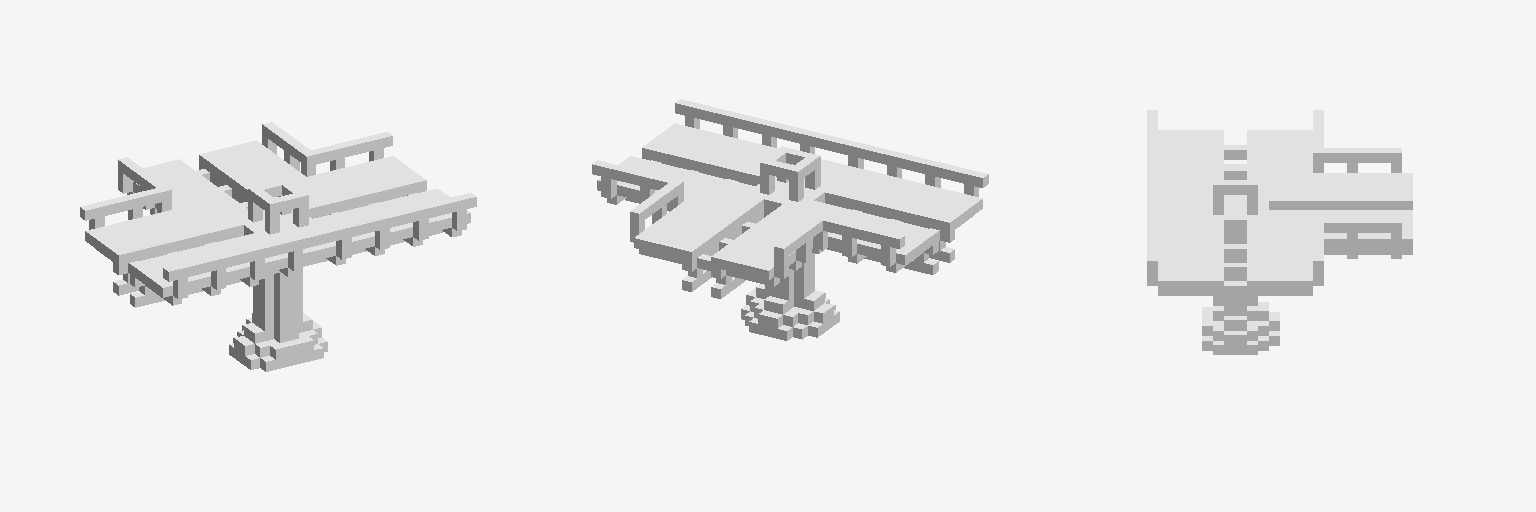
File: bridgeFork.obj
3 views of the same model, side by side, from view 1: azimuth 30°, elevation 25°; view 2: azimuth 150°, elevation 25°; view 3: azimuth 270°, elevation 25° (orthographic).
Parts seen in each view (by area): view 1: bridgeFork; view 2: bridgeFork; view 3: bridgeFork.
Boxes of the visible parts, <box> form: bridgeFork: <box>80,122,476,371</box>; bridgeFork: <box>592,99,988,340</box>; bridgeFork: <box>1147,110,1412,354</box>.
Bounding box in the file's own units: 3.2 × 1.6 × 2.4.